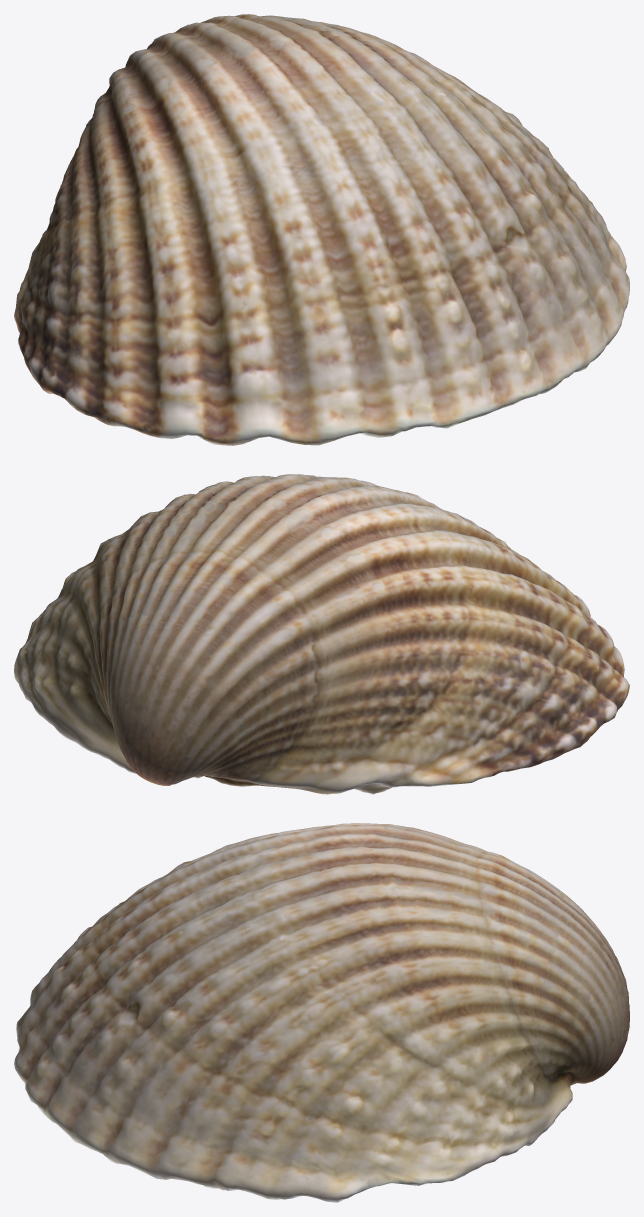
Rendered from commonCockle_edit_for_FBX.fbx.
3 views of the same model, one above another, from view 1: azimuth 30°, elevation 25°; view 2: azimuth 150°, elevation 25°; view 3: azimuth 270°, elevation 25° (orthographic). The views are drawn at different scales.
Visible parts, largest first — view 1: commonCockle; view 2: commonCockle; view 3: commonCockle.
Part boxes in pixels (left/top/right/bottom): commonCockle: left=14, top=14, right=629, bottom=445; commonCockle: left=14, top=474, right=629, bottom=794; commonCockle: left=14, top=823, right=629, bottom=1202.
Size of the model in its own units: 2729 by 1135 by 2687.
